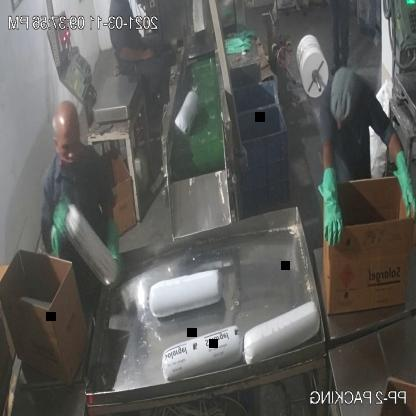glove: (314, 158, 348, 256), (390, 146, 416, 236)
no_glove: (115, 38, 160, 69)
